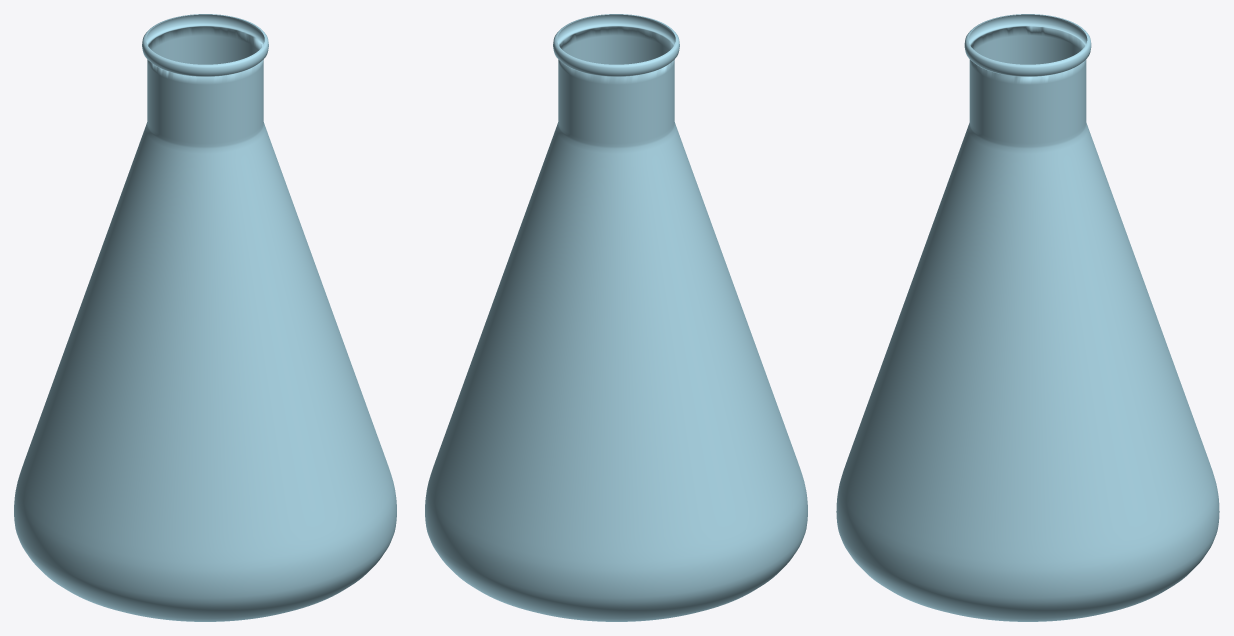
File: Koble 1.fbx
The picture shows the model from 3 angles, left to right: view 1: azimuth 30°, elevation 25°; view 2: azimuth 150°, elevation 25°; view 3: azimuth 270°, elevation 25°; orthographic projection.
Parts seen in each view (by area): view 1: Kolbe 1; view 2: Kolbe 1; view 3: Kolbe 1.
Part boxes in pixels (x1,y1,x2,y2): Kolbe 1: (14, 14, 396, 621); Kolbe 1: (425, 14, 807, 621); Kolbe 1: (836, 14, 1219, 621).
Bounding box in the file's own units: 196 × 295 × 196.
